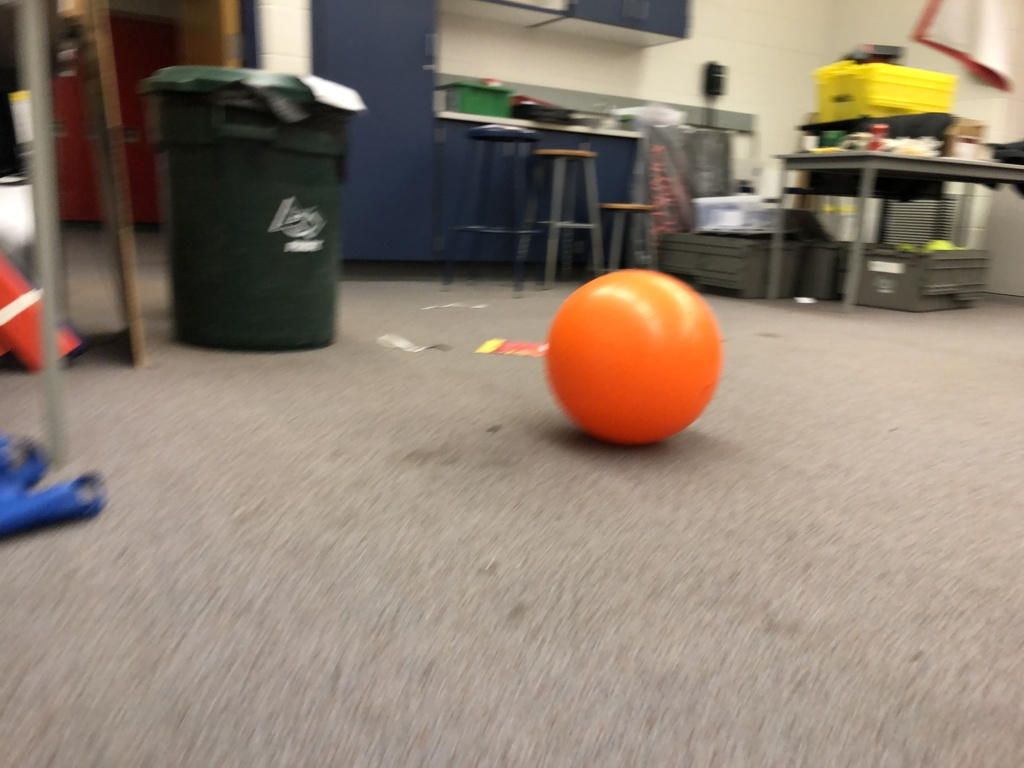cargo: (536, 257, 726, 454)
